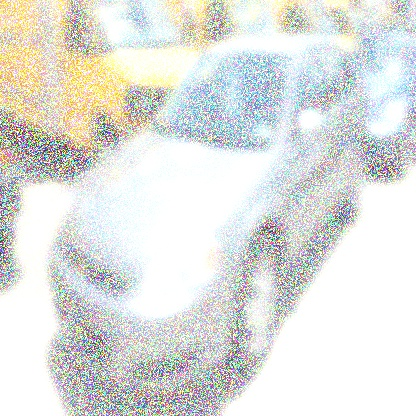Vehicle: (50, 33, 371, 395)
